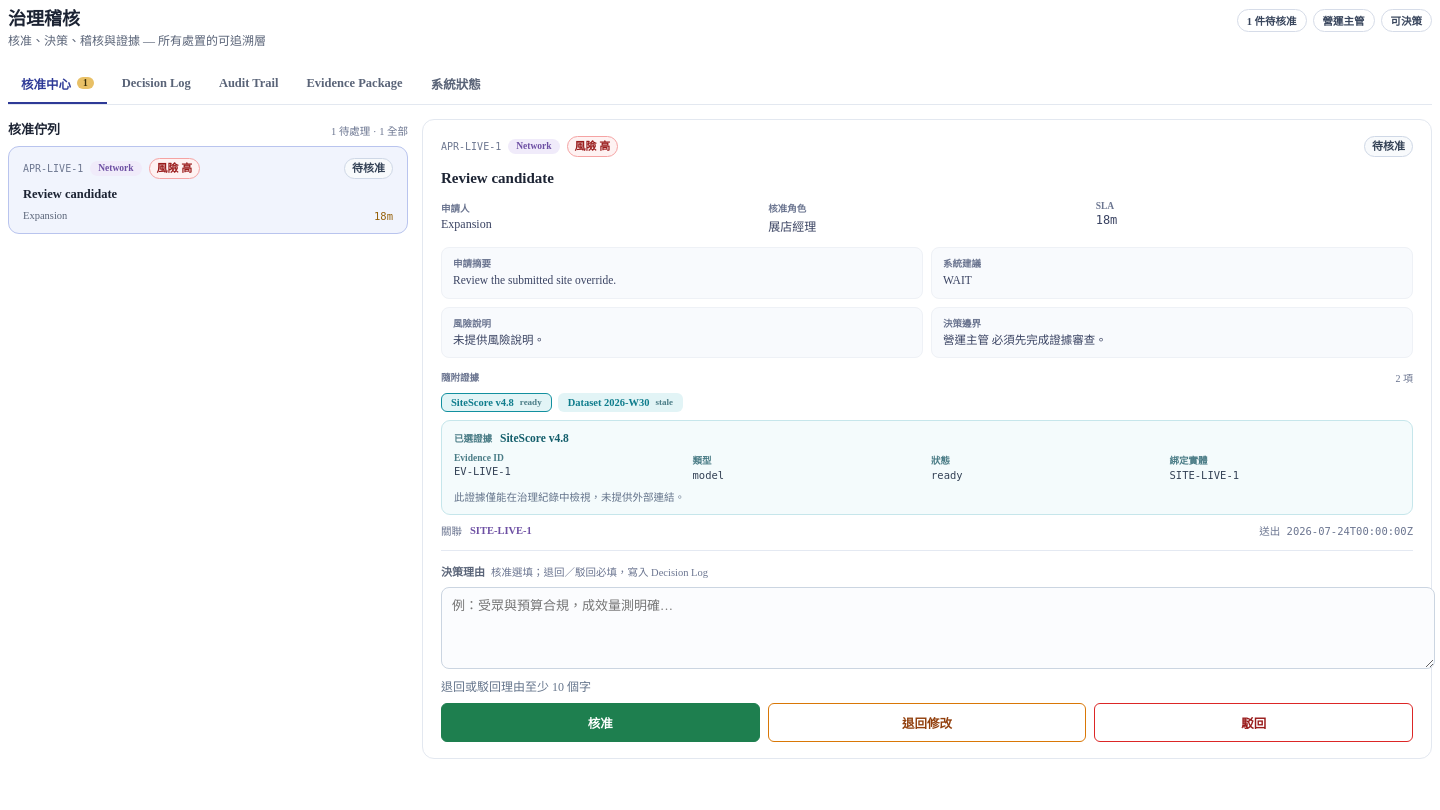
GovernanceWorkspace high-risk failures › matches the Package 10 approval center and switches selected evidence
Expected: the heading "治理稽核" is shown, top-left (8, 9), bottom-right (80, 29)
Expected: the text "核准、決策、稽核與證據 — 所有處置的可追溯層" is shown, top-left (8, 33), bottom-right (266, 51)
Click the button "Dataset 2026-W30 stale" at {"x": 620, "y": 402}, box top-left (558, 393), bottom-right (683, 412)
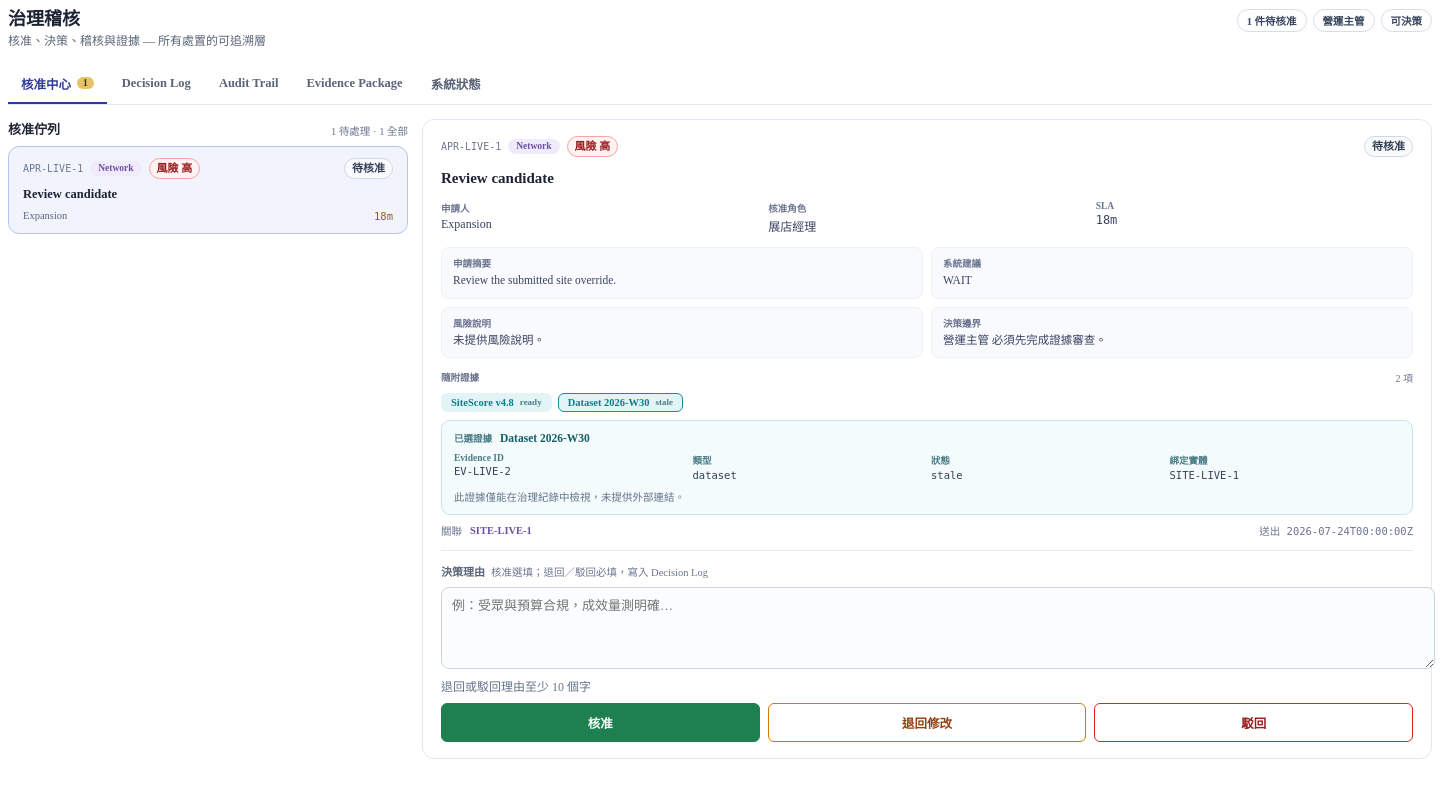
Expected: the element with test id "governance-selected-evidence" shows "EV-LIVE-2", top-left (454, 465), bottom-right (511, 477)
Expected: the element with test id "governance-selected-evidence" shows "stale", top-left (931, 469), bottom-right (963, 481)
